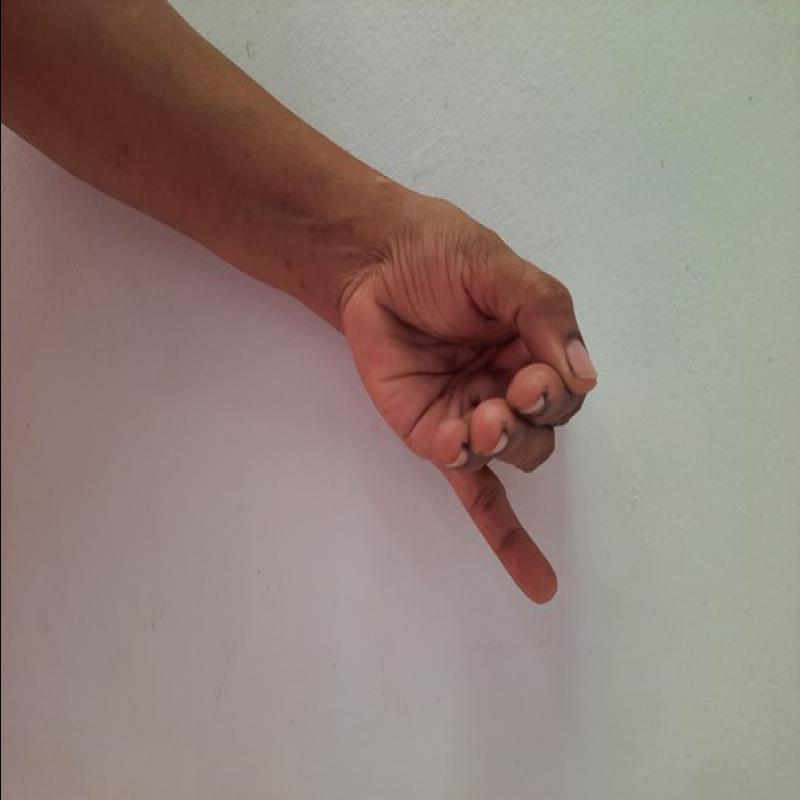Kartharee Mukham: (311, 202, 648, 625)
